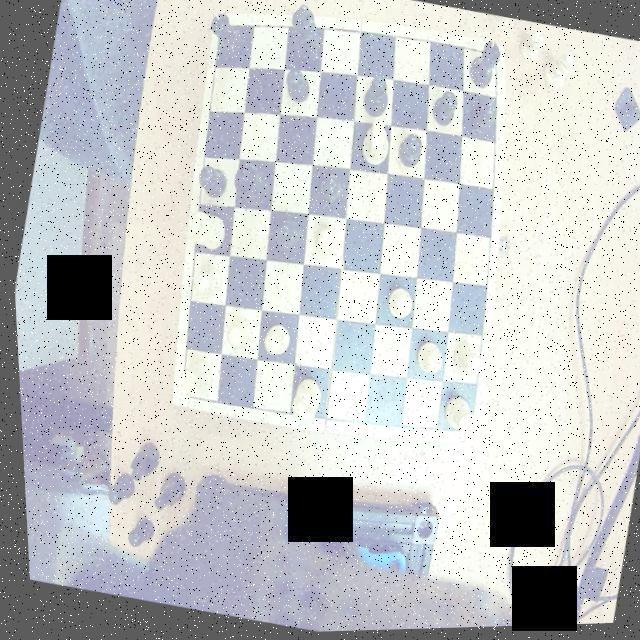chess-table-corners: (448, 414, 476, 446), (208, 13, 232, 46), (168, 382, 195, 411), (479, 44, 504, 70)
